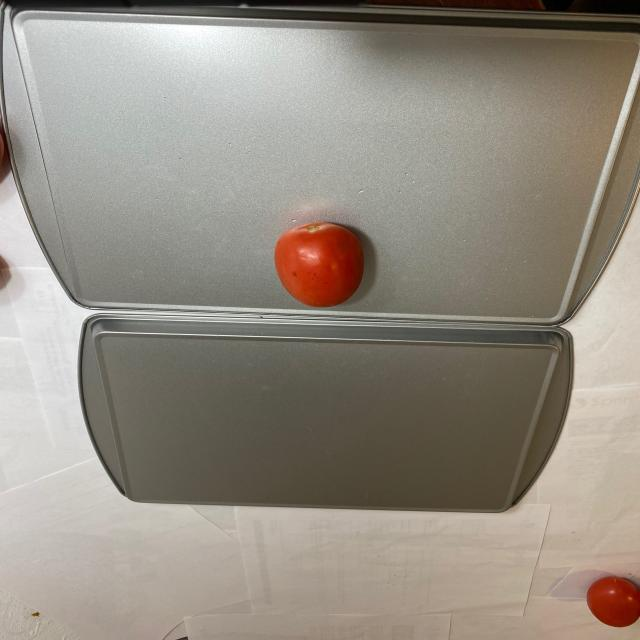tomato: (271, 221, 363, 309), (582, 558, 637, 634)
